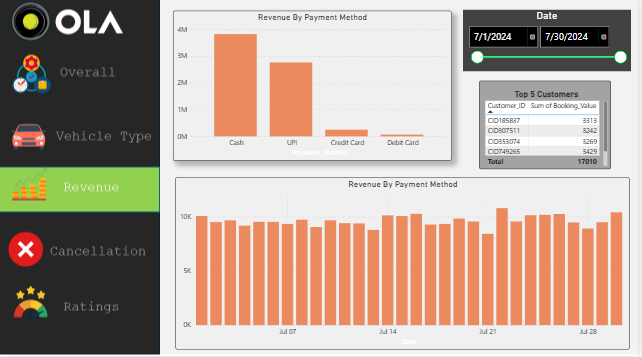

The dashboard page shown, as its layout file describes it:
{"tool":"powerbi","page":{"name":"revenue","canvas":[1280,720],"ordinal":2},"visuals":[{"type":"actionButton","box":[0,236.7,306.7,90],"z":0},{"type":"actionButton","box":[0,463.3,306.7,76.7],"z":1000},{"type":"actionButton","box":[0,576.7,306.7,76.7],"z":2000},{"type":"actionButton","box":[0,106.7,306.7,86.7],"z":3000},{"type":"columnChart","title":"Revenue By Payment Method","fields":{"Y":["Sum(July.Booking_Value)"],"Category":["July.Payment_Method"]},"box":[350,26.7,556.7,300],"z":4000},{"type":"columnChart","title":"Revenue By Payment Method","fields":{"Y":["Sum(July.Ride_Distance)"],"Category":["July.Date"]},"box":[355,360,908.3,345],"z":5000},{"type":"slicer","title":"Date","fields":{"Values":["July.Date"]},"box":[930,26,336,124],"z":6000},{"type":"tableEx","title":"Top 5 Customers","fields":{"Values":["July.Customer_ID","Sum(July.Booking_Value)"]},"box":[961.4,168.6,262.9,177.1],"z":7000}]}

Visuals, with their boxes in screenshot pixels (x1, y1, x2, y2), scaled from the page's 1280x720 canvas onto the 642x357 screenshot:
actionButton: (0,117,154,162)
actionButton: (0,230,154,268)
actionButton: (0,286,154,324)
actionButton: (0,53,154,96)
"Revenue By Payment Method" columnChart: (176,13,455,162)
"Revenue By Payment Method" columnChart: (178,178,634,350)
"Date" slicer: (466,13,635,74)
"Top 5 Customers" tableEx: (482,84,614,171)
